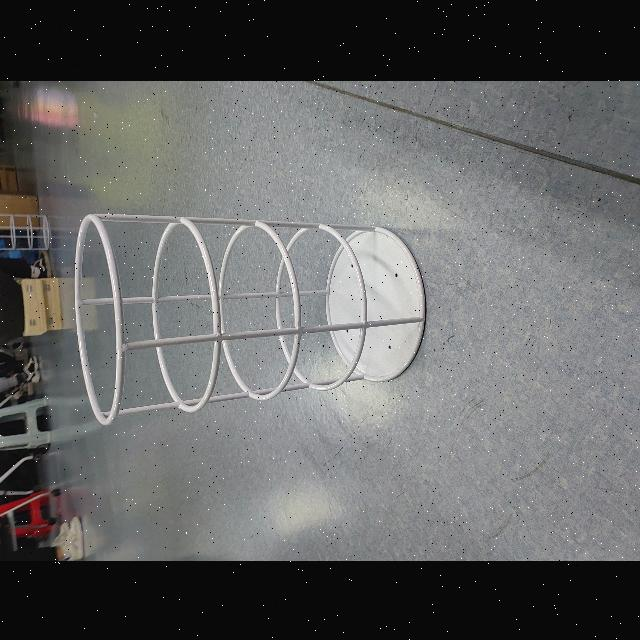S: (70, 207, 433, 433)
